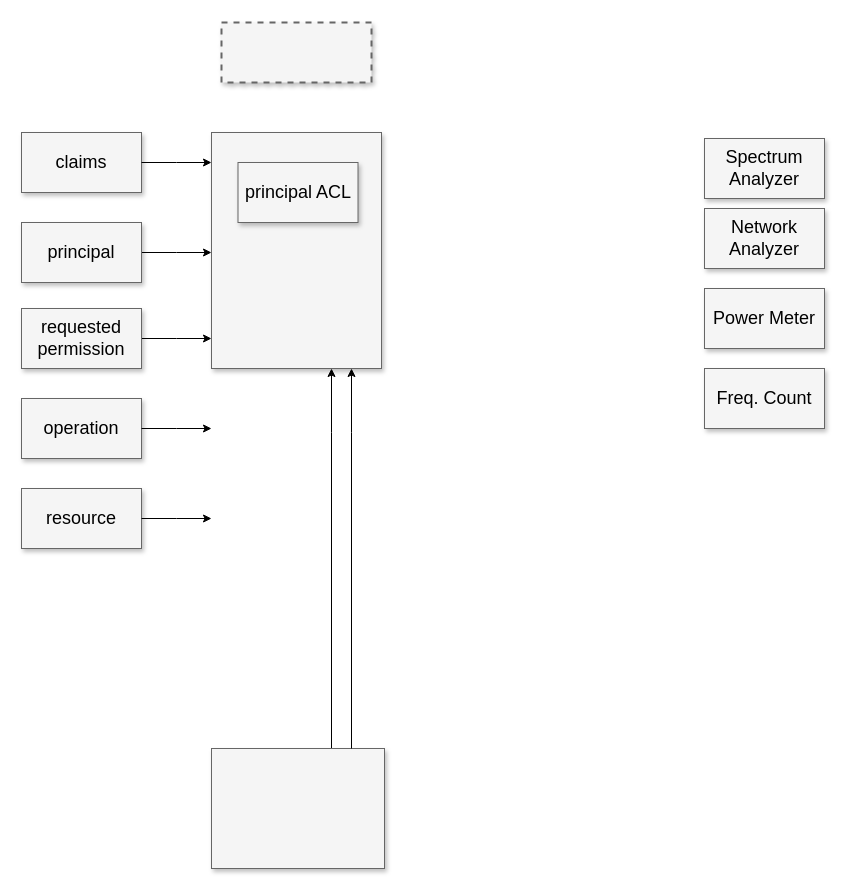
This 848x893 diagram has some shape labels left out. The shapes that lost their labels are listed below. From the top down, each one's centre as x and y in pixels, then its label:
[297,53]: Software Control
[298,810]: DUT
